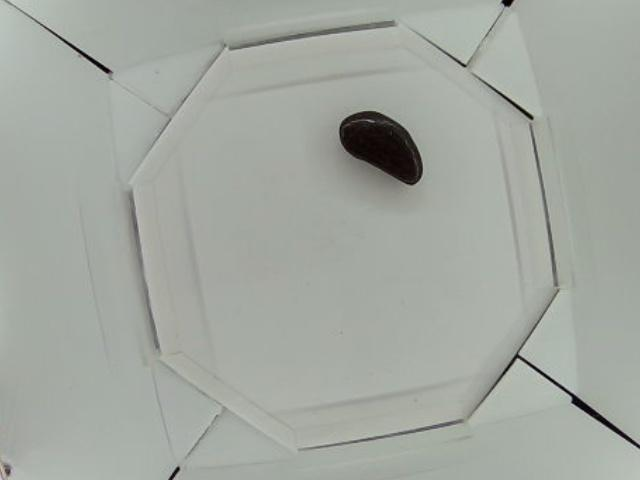Pebble: (339, 110, 425, 185)
